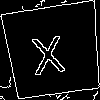X: (28, 25, 66, 76)
